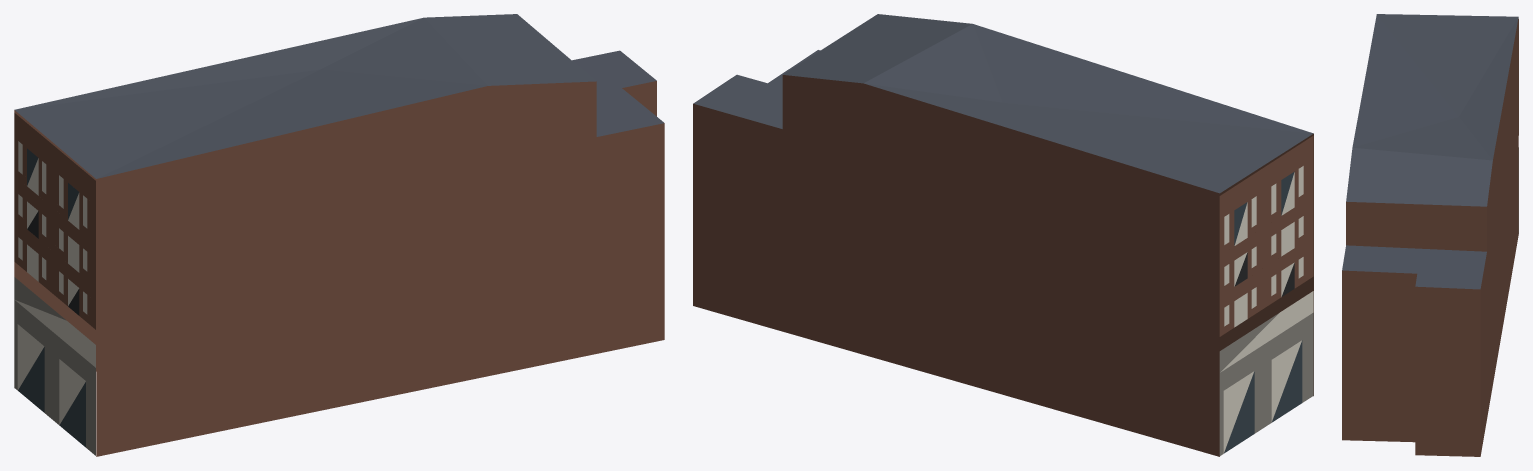
Rendered from cristofori.lod2.glb.
The picture shows the model from 3 angles, left to right: view 1: azimuth 30°, elevation 25°; view 2: azimuth 150°, elevation 25°; view 3: azimuth 270°, elevation 25°; orthographic projection. The views are drawn at different scales.
Parts seen in each view (by area): view 1: lod2; view 2: lod2; view 3: lod2.
Part boxes in pixels (<box>): lod2: <box>14,14,664,456</box>; lod2: <box>693,14,1313,456</box>; lod2: <box>1342,14,1518,456</box>.
Bounding box in the file's own units: 43.08 × 20.27 × 14.28.
